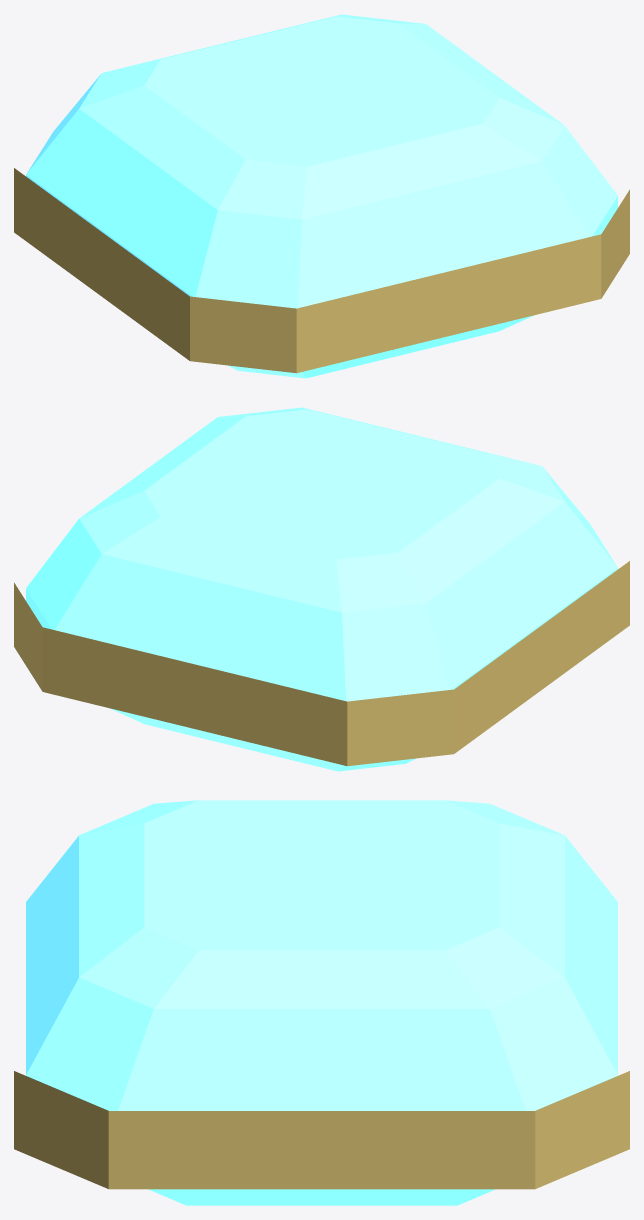
The model's file is pickups-and-collectibles-gem-emerald-cut-af67e14b__19859.glb.
The picture shows the model from 3 angles, top to bottom: view 1: azimuth 30°, elevation 25°; view 2: azimuth 150°, elevation 25°; view 3: azimuth 270°, elevation 25°; orthographic projection. The views are drawn at different scales.
Parts seen in each view (by area): view 1: body/gem, body/gold; view 2: body/gem, body/gold; view 3: body/gem, body/gold.
Boxes of the visible parts, left/top/right/bottom form: body/gem: left=26, top=14, right=617, bottom=378; body/gold: left=14, top=168, right=629, bottom=373; body/gem: left=26, top=407, right=617, bottom=771; body/gold: left=14, top=561, right=629, bottom=766; body/gem: left=26, top=800, right=617, bottom=1205; body/gold: left=14, top=1071, right=629, bottom=1189.
Bounding box in the file's own units: 0.2704 × 0.15 × 0.2704.
